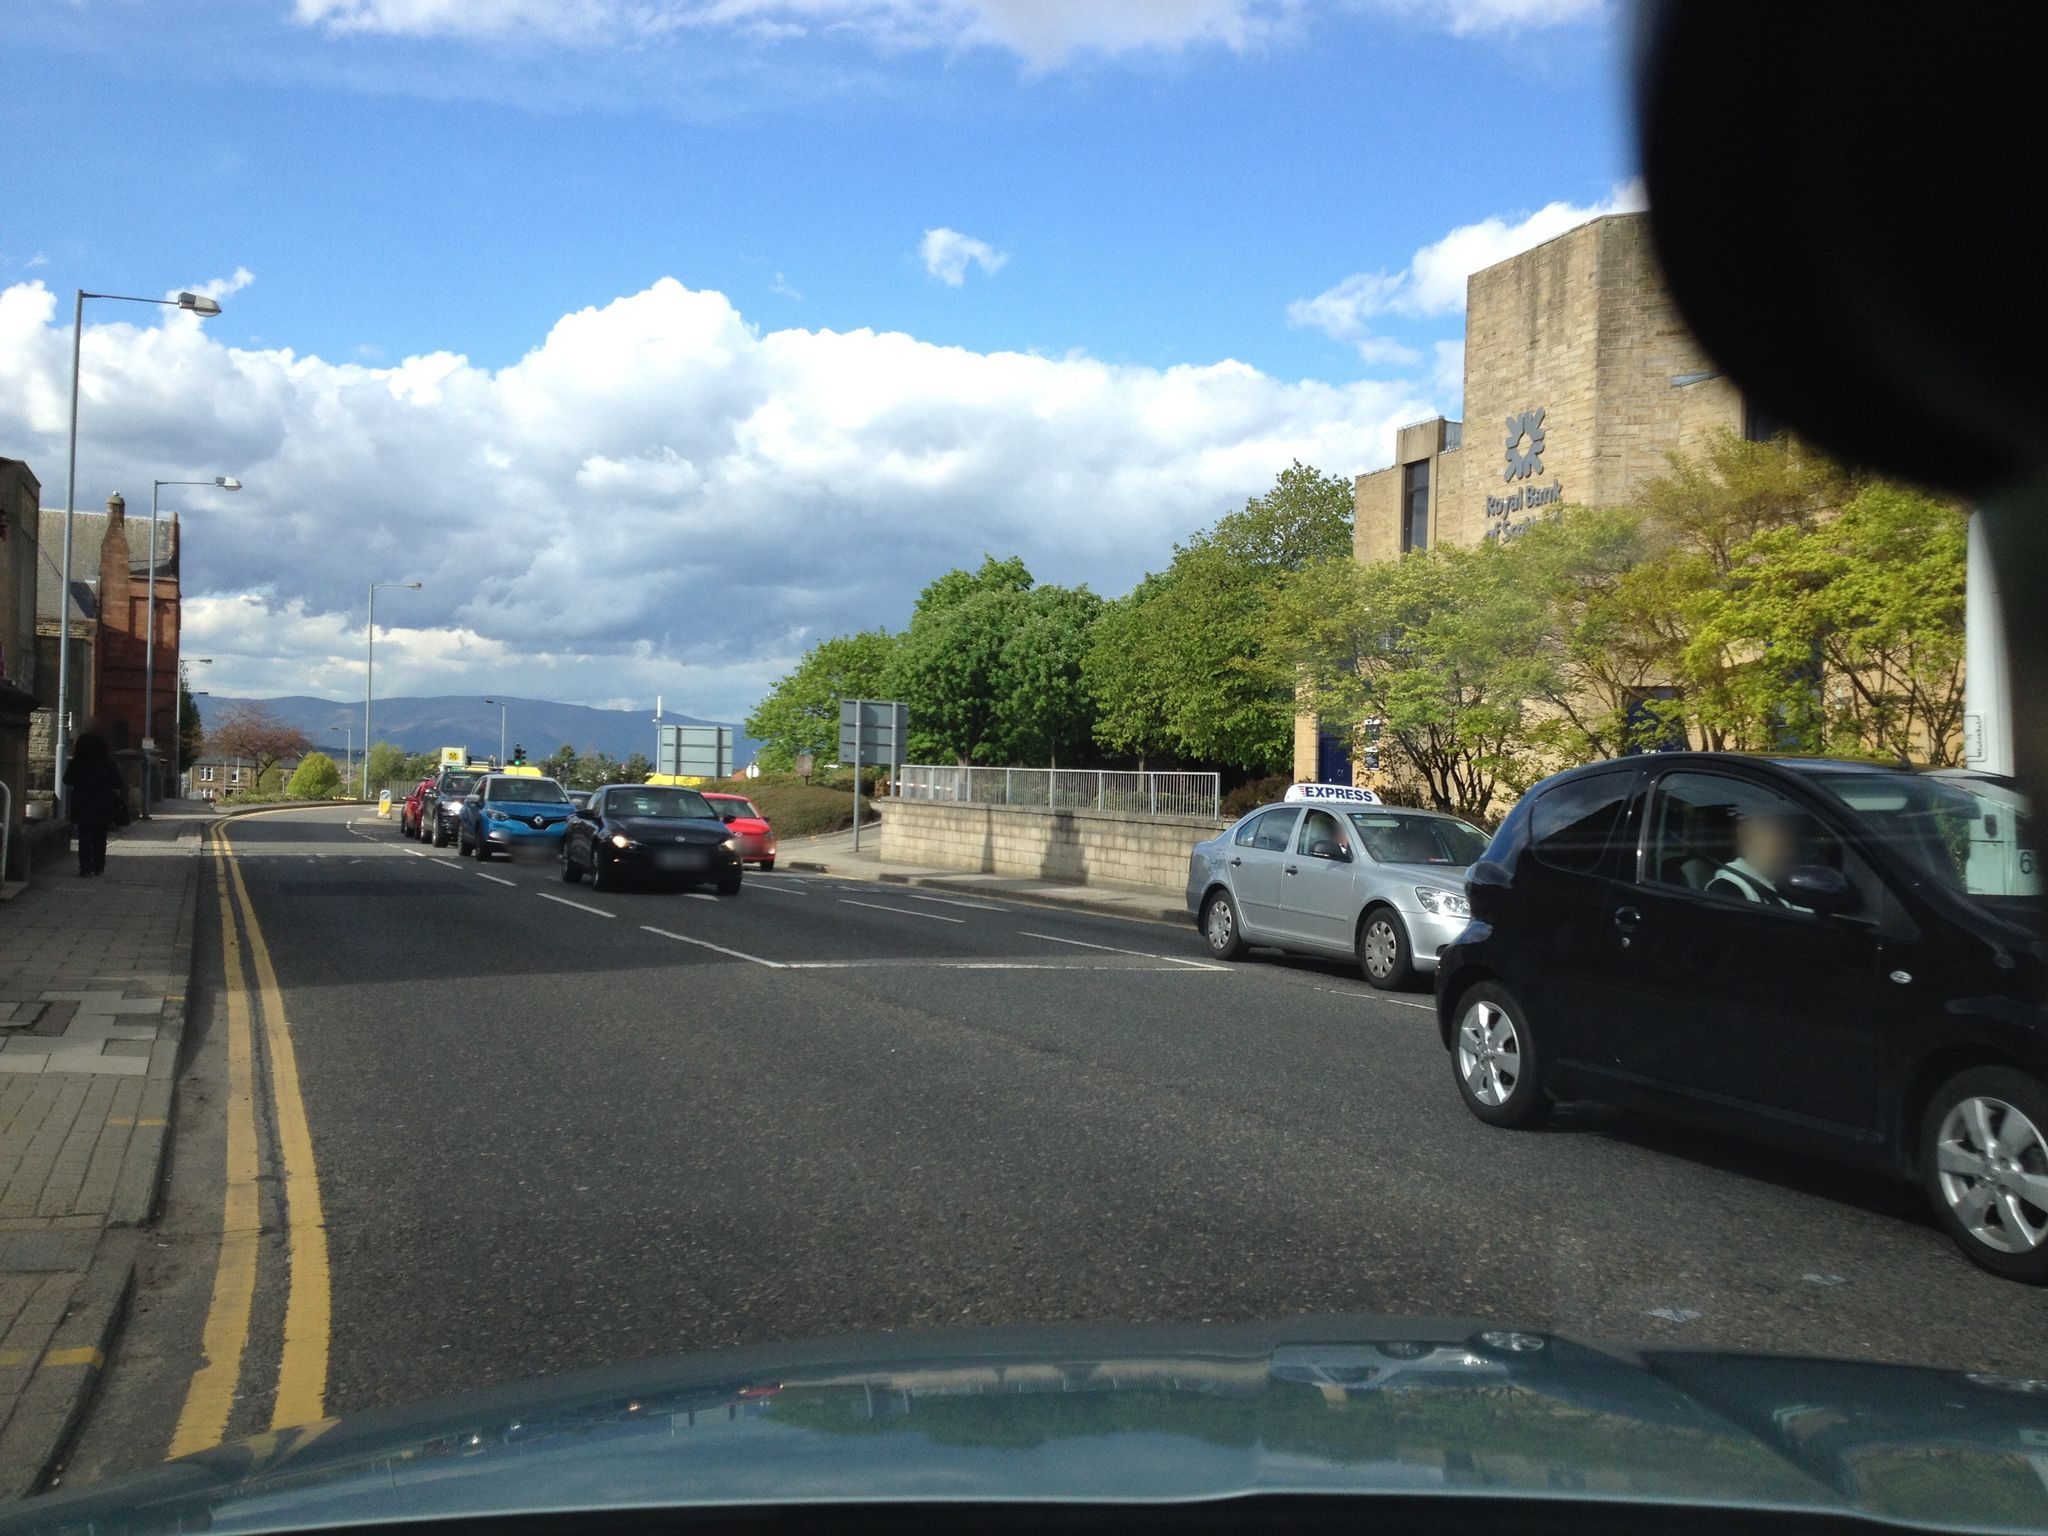car: (1434, 750, 2048, 1283), (1185, 783, 1493, 992), (560, 783, 743, 895), (456, 773, 576, 863), (693, 791, 776, 871), (419, 766, 498, 847)
